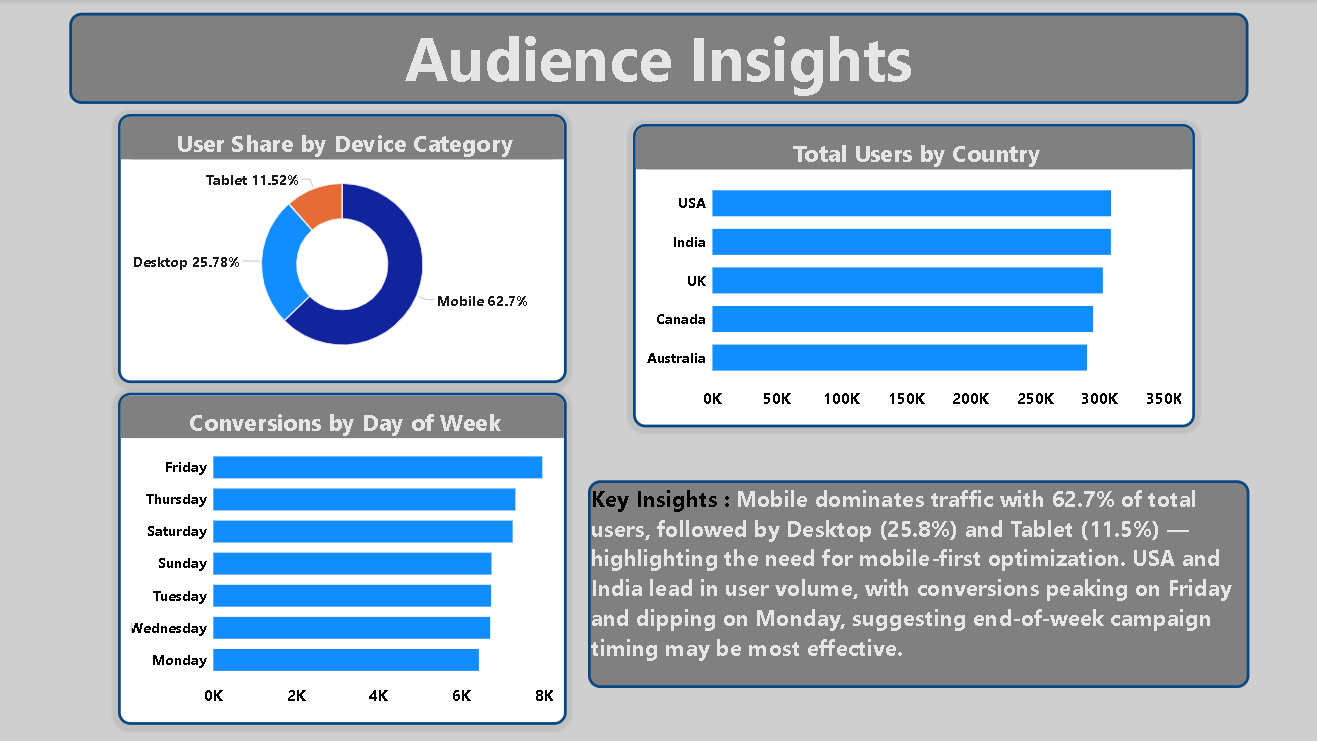

The page's visual inventory and layout, read from the dashboard file:
{"tool":"powerbi","page":{"name":"Audience","canvas":[1920,1080],"ordinal":2},"visuals":[{"type":"donutChart","title":"User Share by Device Category","fields":{"Category":["cleaned_traffic_data.Device Category"],"Y":["cleaned_traffic_data.Total Users"]},"box":[173.1,166.6,649.2,389.5],"z":0},{"type":"barChart","fields":{"Category":["cleaned_traffic_data.Country"],"Y":["cleaned_traffic_data.Total Users"]},"box":[919.8,181.8,813.7,439.3],"z":1000},{"type":"barChart","title":"Conversions by Day of Week","fields":{"Category":["cleaned_traffic_data.Day"],"Y":["Sum(cleaned_traffic_data.Conversions)"]},"box":[173.1,569.2,649.2,480.4],"z":2000},{"type":"textbox","box":[103.9,19.5,1707.5,132],"z":2001},{"type":"textbox","box":[854.2,696.7,957.3,300.4],"z":2002}]}

Visuals, with their boxes in screenshot pixels (x1, y1, x2, y2), scaled from the page's 1920x1080 canvas onto the 1317x741 screenshot:
"User Share by Device Category" donutChart: BBox(119, 114, 564, 382)
barChart - cleaned_traffic_data.Country x cleaned_traffic_data.Total Users: BBox(631, 125, 1189, 426)
"Conversions by Day of Week" barChart: BBox(119, 391, 564, 720)
textbox: BBox(71, 13, 1243, 104)
textbox: BBox(586, 478, 1243, 684)
